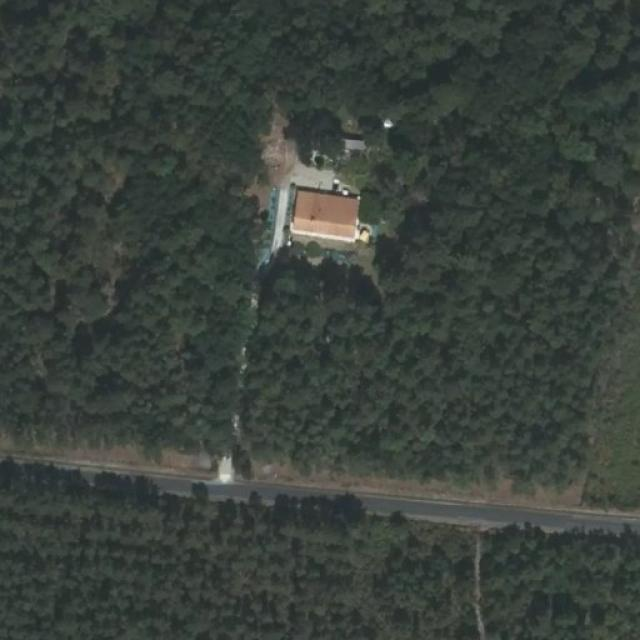ferme: (286, 181, 367, 247)
